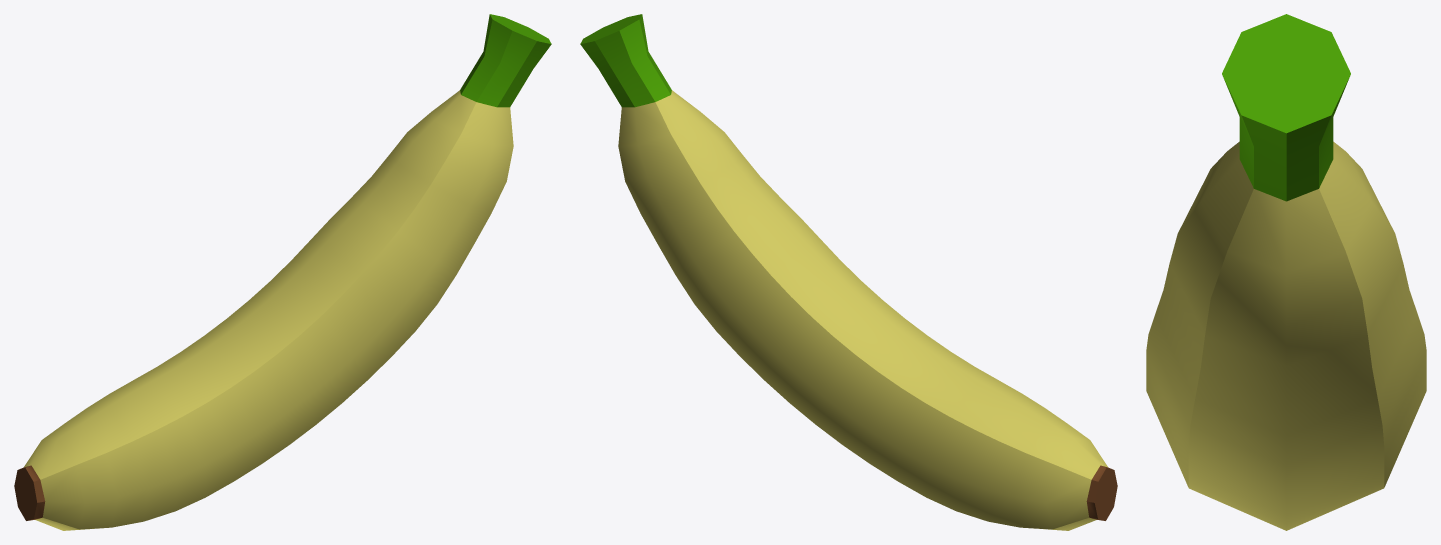
File: Banana.fbx
3 views of the same model, side by side, from view 1: azimuth 30°, elevation 25°; view 2: azimuth 150°, elevation 25°; view 3: azimuth 270°, elevation 25° (orthographic). The views are drawn at different scales.
Parts seen in each view (by area): view 1: Banana1; view 2: Banana1; view 3: Banana1.
Part boxes in pixels (left/top/right/bottom): Banana1: left=14, top=14, right=551, bottom=530; Banana1: left=580, top=14, right=1117, bottom=530; Banana1: left=1146, top=14, right=1426, bottom=530.
Size of the model in its own units: 4.25 by 3.2 by 1.
